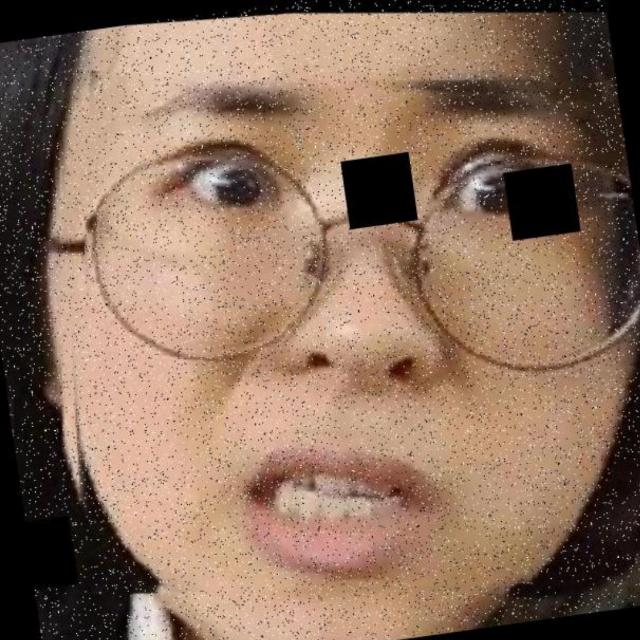Angry: (34, 48, 640, 640)
